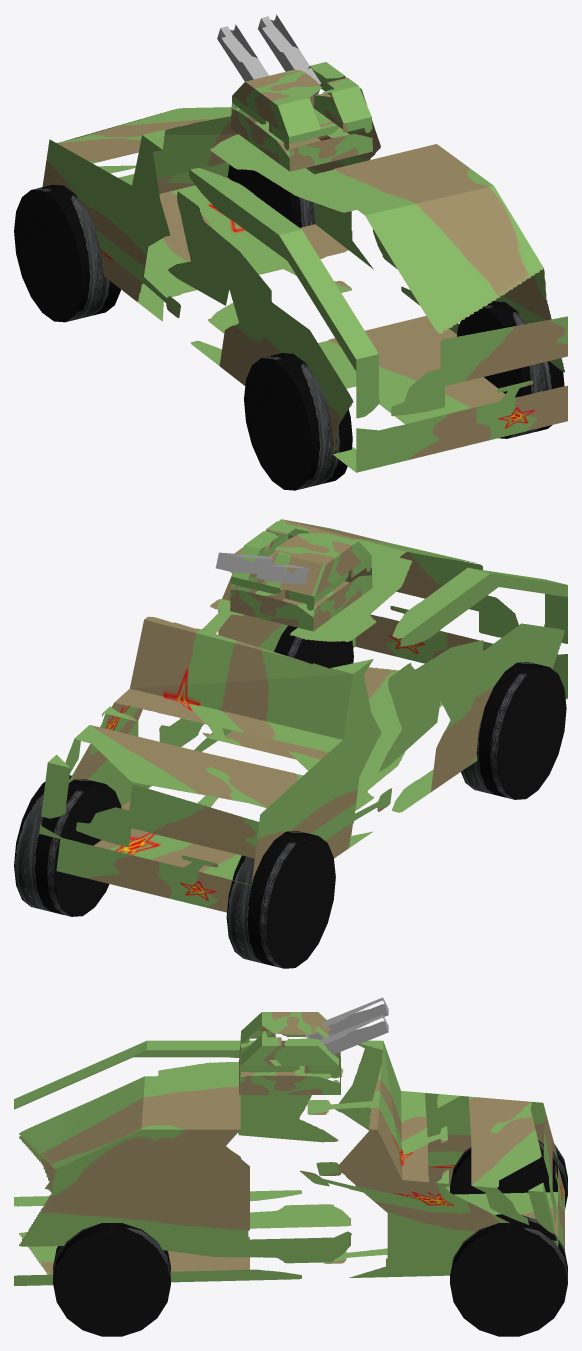
The model's file is HumveeFrac.FBX.
3 renders of one model, top to bottom at view 1: azimuth 30°, elevation 25°; view 2: azimuth 150°, elevation 25°; view 3: azimuth 270°, elevation 25°, orthographic. The views are drawn at different scales.
Parts seen in each view (by area): view 1: Box005, Box004, Cylinder003, Cylinder004, Cylinder001, Cylinder002; view 2: Box005, Box004, Cylinder004, Cylinder003, Cylinder002, Cylinder001; view 3: Box005, Cylinder002, Cylinder001, Box004, Cylinder004.
Part boxes in pixels (x1,y1,x2,y2): Box005: [42, 88, 567, 472]; Box004: [217, 14, 372, 171]; Cylinder003: [244, 353, 352, 490]; Cylinder004: [14, 184, 120, 322]; Cylinder001: [457, 301, 564, 438]; Cylinder002: [227, 164, 315, 227]; Box005: [39, 519, 567, 912]; Box004: [215, 521, 372, 631]; Cylinder004: [226, 830, 335, 968]; Cylinder003: [461, 662, 566, 799]; Cylinder002: [14, 775, 121, 916]; Cylinder001: [274, 625, 353, 668]; Box005: [14, 1040, 564, 1285]; Cylinder002: [450, 1214, 567, 1336]; Cylinder001: [53, 1223, 170, 1336]; Box004: [239, 997, 388, 1094]; Cylinder004: [450, 1140, 567, 1208].
Bounding box in the file's own units: 2.13 × 2.57 × 4.7.
Materials: 3 (3 with a texture image).
